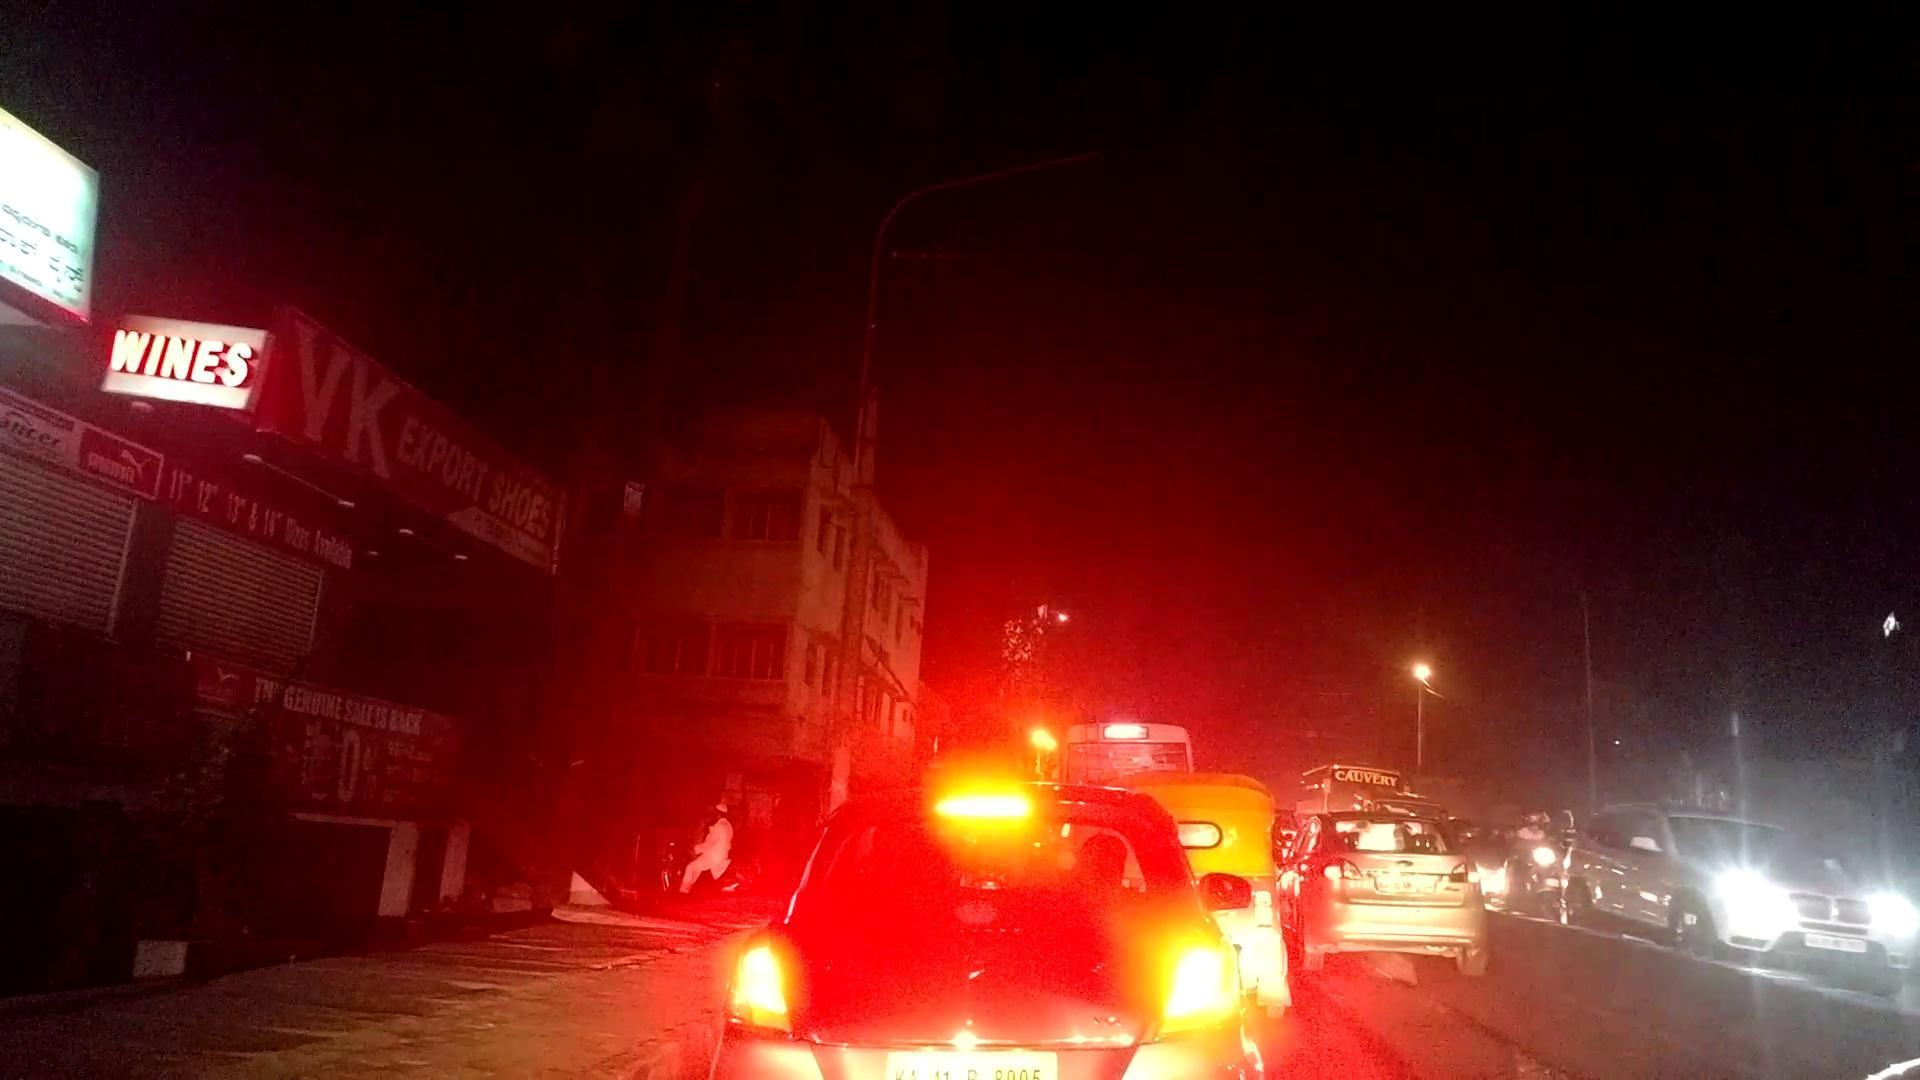on: (1400, 642, 1920, 1080)
